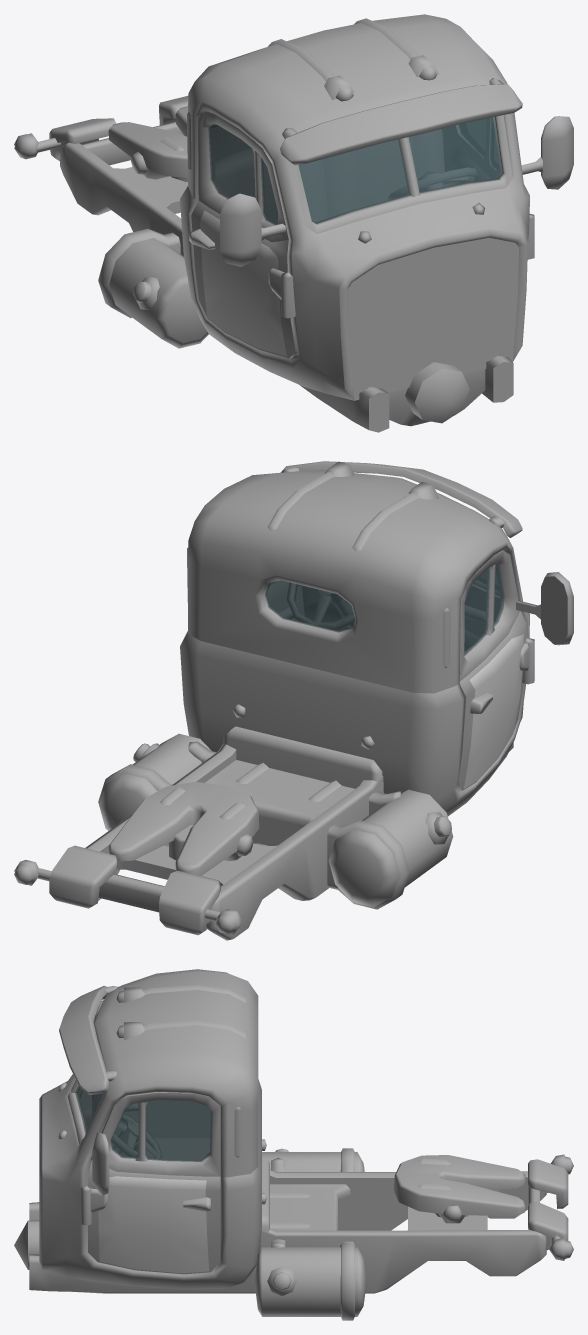
Rendered from Body_TrailerTruck.fbx.
3 renders of one model, top to bottom at view 1: azimuth 30°, elevation 25°; view 2: azimuth 150°, elevation 25°; view 3: azimuth 270°, elevation 25°, orthographic. The views are drawn at different scales.
Parts seen in each view (by area): view 1: TrailerTruck_Body, TrailerTruck_Body_Window, TrailerTruck_Body_Door_Right, TrailerTruck_Body_Cap, TrailerTruck_Body_Door_Right_Decal, TrailerTruck_Body_Door_Left, TrailerTruck_Body_Door_Right_Window, TrailerTruck_Body_SteerWheel, TrailerTruck_Body_Door_Left_Window; view 2: TrailerTruck_Body, TrailerTruck_Body_Door_Right, TrailerTruck_Body_Door_Right_Decal, TrailerTruck_Body_Window, TrailerTruck_Body_Cap, TrailerTruck_Body_Door_Right_Window, TrailerTruck_Body_SteerWheel, TrailerTruck_Body_Door_Left; view 3: TrailerTruck_Body, TrailerTruck_Body_Door_Left_Decal, TrailerTruck_Body_Door_Left, TrailerTruck_Body_Door_Left_Window, TrailerTruck_Body_Cap, TrailerTruck_Body_Door_Right, TrailerTruck_Body_SteerWheel, TrailerTruck_Body_Window.
Part boxes in pixels (left/top/right/bottom): TrailerTruck_Body: left=14, top=14, right=534, bottom=432; TrailerTruck_Body_Window: left=298, top=117, right=502, bottom=223; TrailerTruck_Body_Door_Right: left=189, top=111, right=297, bottom=358; TrailerTruck_Body_Cap: left=280, top=78, right=522, bottom=165; TrailerTruck_Body_Door_Right_Decal: left=200, top=210, right=286, bottom=356; TrailerTruck_Body_Door_Left: left=447, top=116, right=573, bottom=189; TrailerTruck_Body_Door_Right_Window: left=208, top=124, right=278, bottom=225; TrailerTruck_Body_SteerWheel: left=388, top=167, right=477, bottom=199; TrailerTruck_Body_Door_Left_Window: left=459, top=119, right=499, bottom=168; TrailerTruck_Body: left=14, top=461, right=534, bottom=940; TrailerTruck_Body_Door_Right: left=458, top=550, right=573, bottom=790; TrailerTruck_Body_Door_Right_Decal: left=464, top=634, right=523, bottom=788; TrailerTruck_Body_Window: left=265, top=571, right=499, bottom=632; TrailerTruck_Body_Cap: left=281, top=461, right=522, bottom=537; TrailerTruck_Body_Door_Right_Window: left=464, top=563, right=504, bottom=655; TrailerTruck_Body_SteerWheel: left=287, top=583, right=354, bottom=630; TrailerTruck_Body_Door_Left: left=267, top=581, right=304, bottom=619; TrailerTruck_Body: left=14, top=969, right=573, bottom=1320; TrailerTruck_Body_Door_Left_Decal: left=98, top=1176, right=209, bottom=1273; TrailerTruck_Body_Door_Left: left=88, top=1092, right=220, bottom=1274; TrailerTruck_Body_Door_Left_Window: left=110, top=1100, right=211, bottom=1161; TrailerTruck_Body_Cap: left=59, top=985, right=117, bottom=1094; TrailerTruck_Body_Door_Right: left=93, top=1000, right=210, bottom=1156; TrailerTruck_Body_SteerWheel: left=112, top=1113, right=161, bottom=1158; TrailerTruck_Body_Window: left=75, top=1085, right=103, bottom=1133.
Size of the model in its own units: 218 by 187 by 352.
